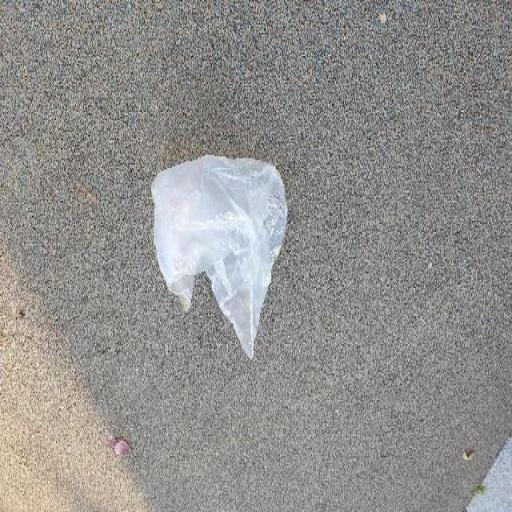plastic-bag: (151, 152, 289, 364)
